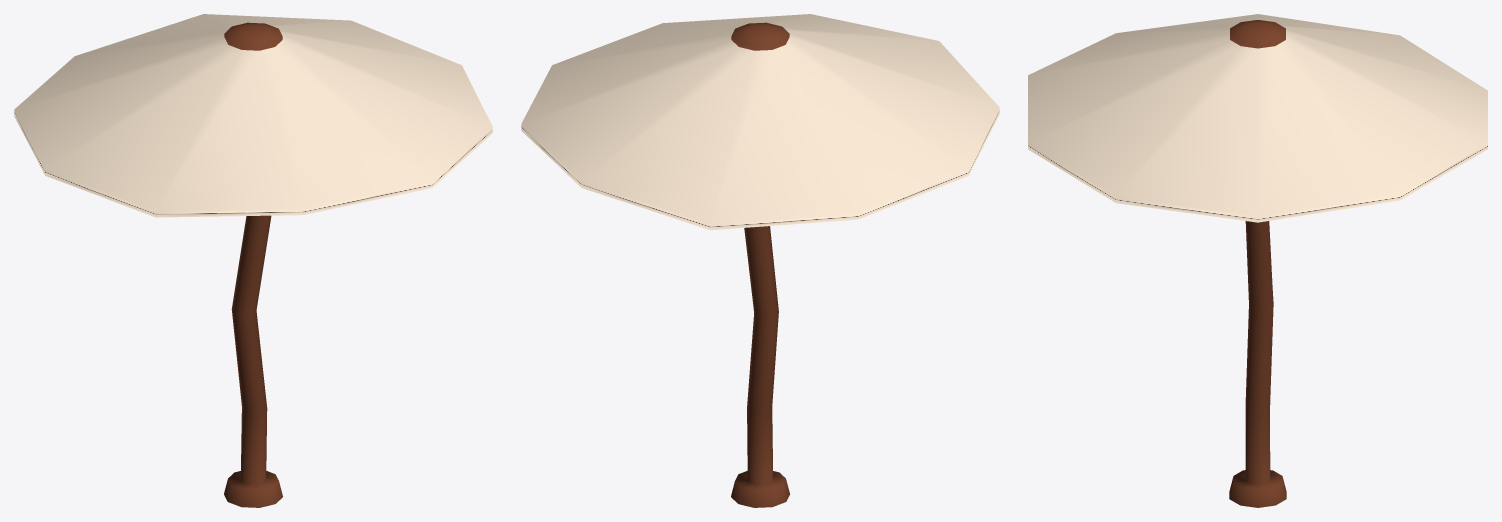
The model's file is Umbrella.fbx.
3 views of the same model, side by side, from view 1: azimuth 30°, elevation 25°; view 2: azimuth 150°, elevation 25°; view 3: azimuth 270°, elevation 25° (orthographic).
Visible parts, largest first — view 1: UMBRELLA; view 2: UMBRELLA; view 3: UMBRELLA.
Part boxes in pixels (bbox=[...]): UMBRELLA: bbox=[14, 14, 492, 507]; UMBRELLA: bbox=[521, 14, 999, 507]; UMBRELLA: bbox=[1028, 14, 1487, 507].
Size of the model in its own units: 2.54 by 2.71 by 2.42.
